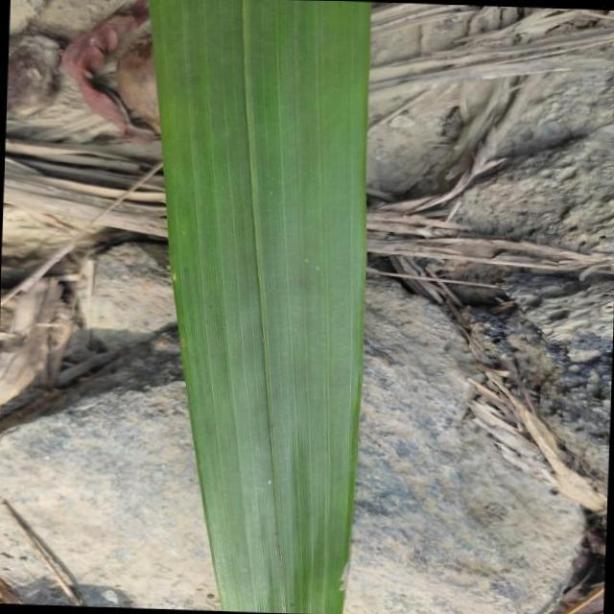Healthy: (154, 0, 364, 614)
